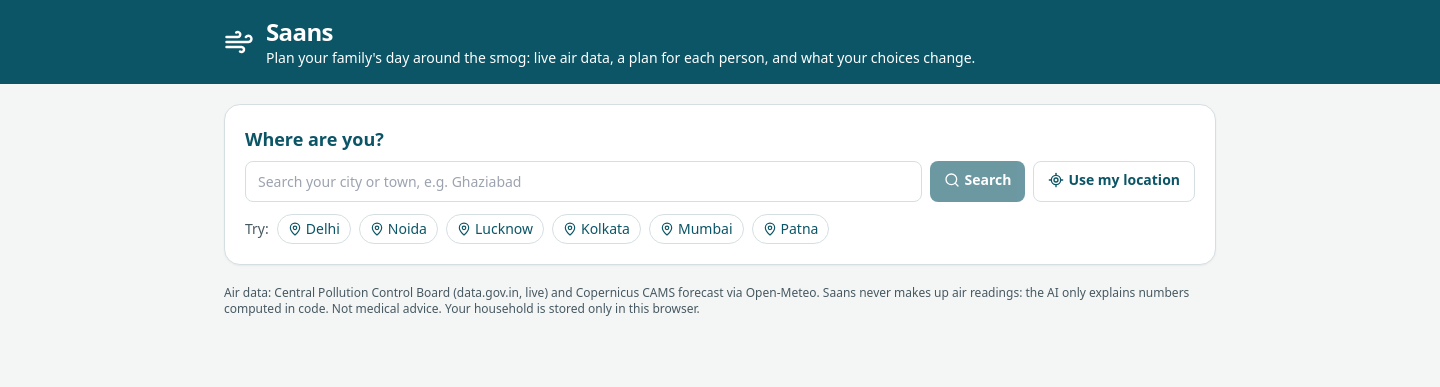
Test case: Saans › shows an error when the forecast cannot be loaded
Click the button "Delhi" at (314, 229), box x1=277 y1=214 x2=351 y2=244
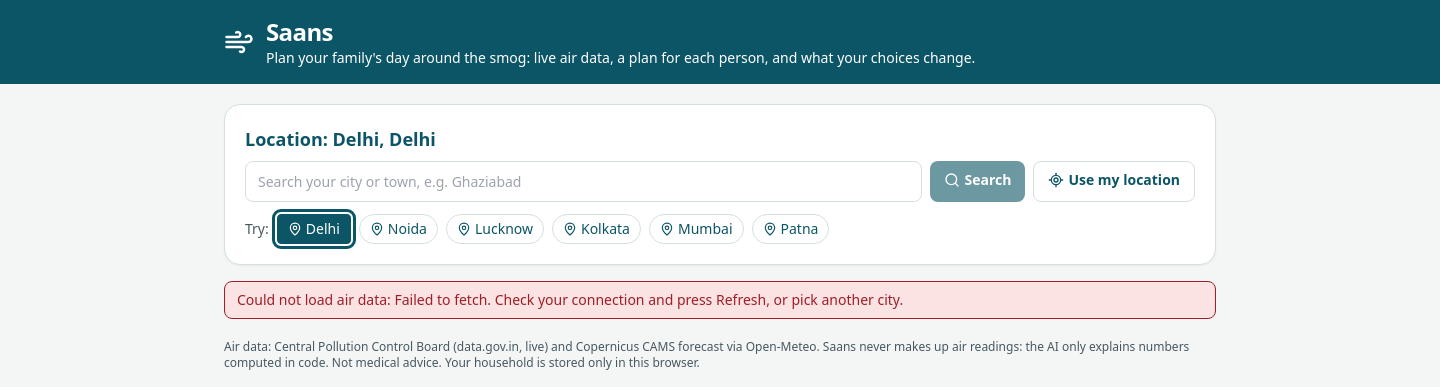
Expected: the message shows "Could not load air data", x1=237 y1=290 x2=394 y2=309
